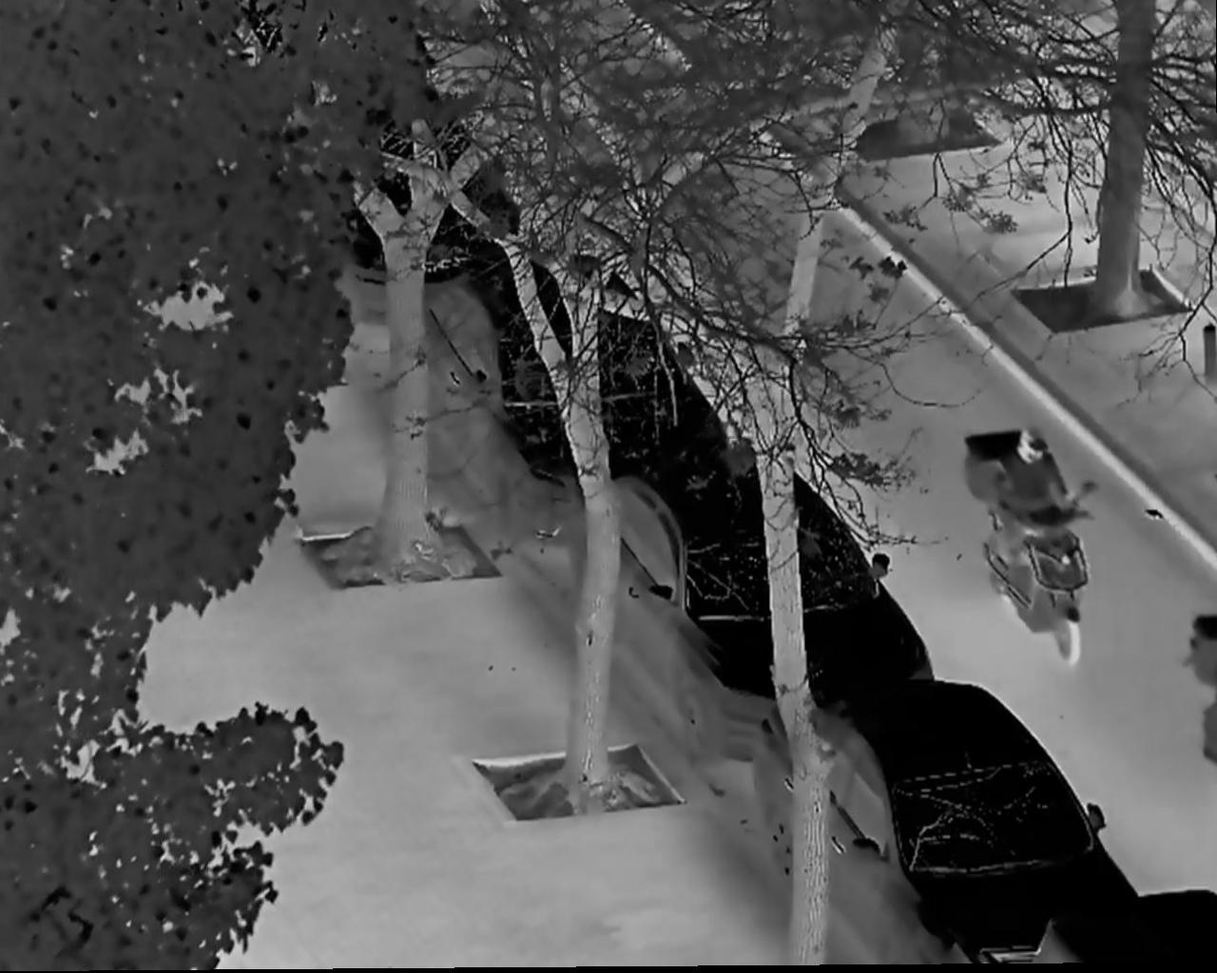person: (984, 428, 1083, 591)
